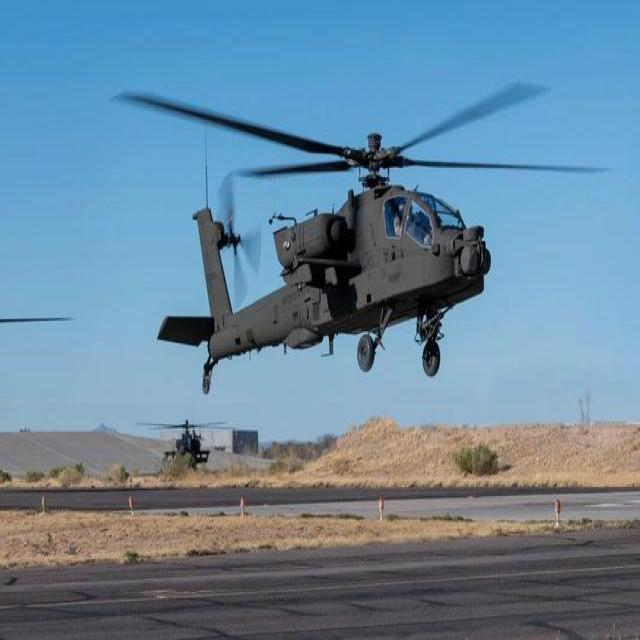MIL_HELO: (116, 61, 590, 393)
